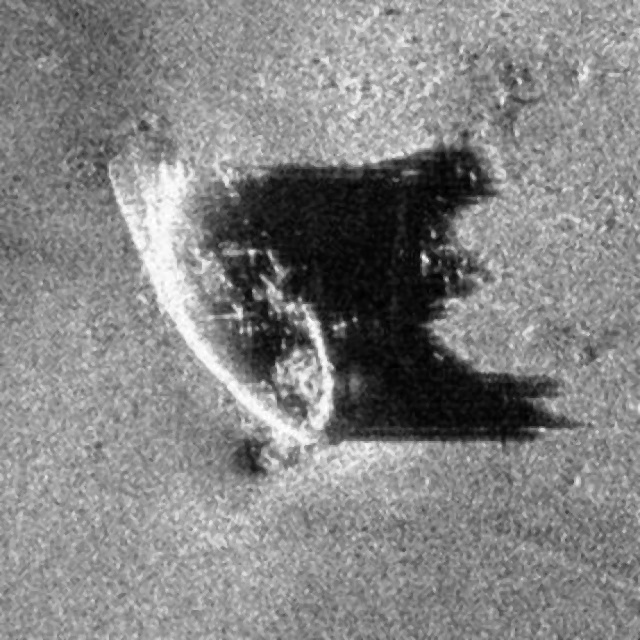Ship: (86, 116, 378, 483)
